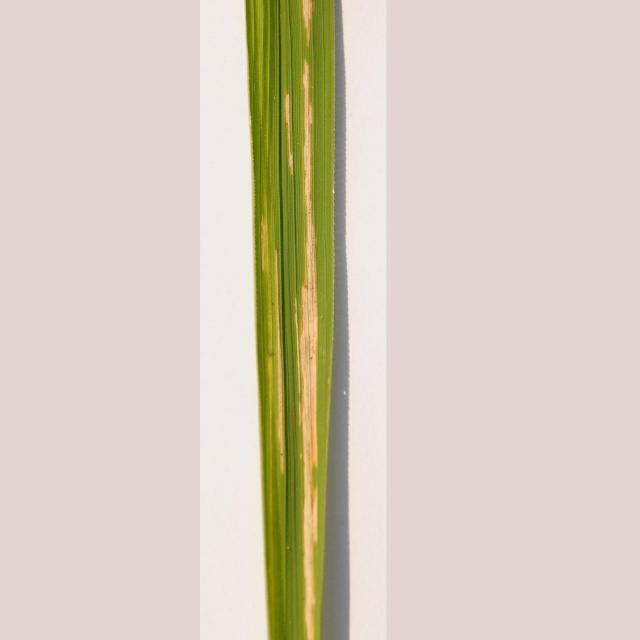Bacterial leaf blight: (294, 62, 328, 640), (251, 205, 291, 500), (276, 81, 296, 172), (292, 0, 319, 45)
